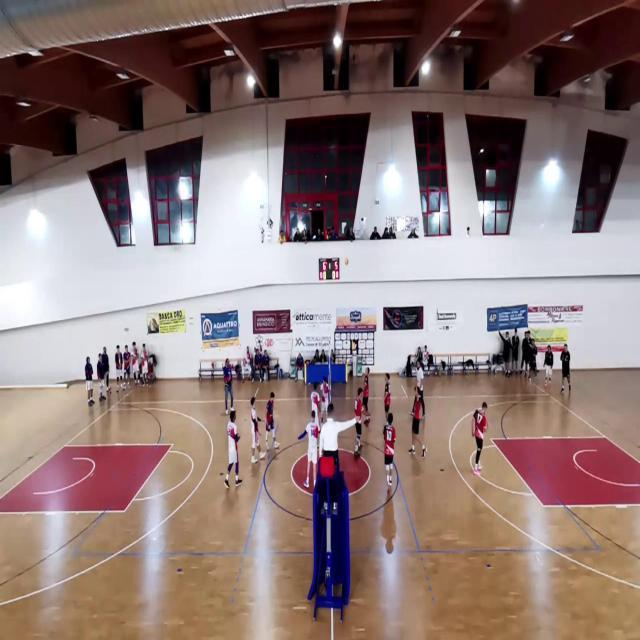volleyball: (344, 256, 349, 266)
